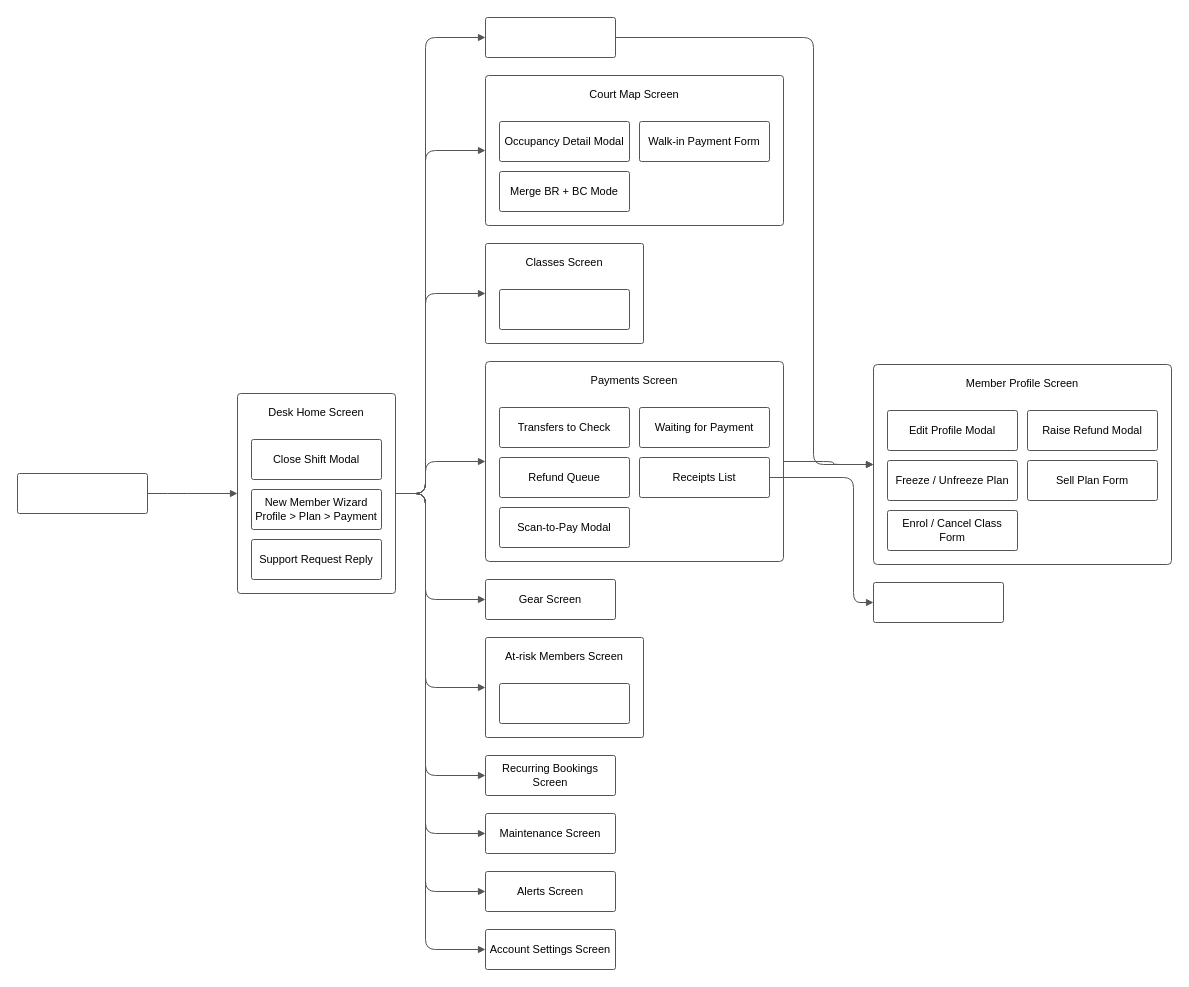
The diagram is 1189 pixels wide and 987 high, and some of its shapes have lost their labels. Each missing label, with the centre of its shape:
"Class Detail Modal (read-only)" goes at pixel 564 309.
"Gate Check-in Screen" goes at pixel 550 37.
"Log Contact Form" goes at pixel 564 703.
"Login Screen" goes at pixel 82 493.
"Receipt PDF (new tab)" goes at pixel 938 602.
